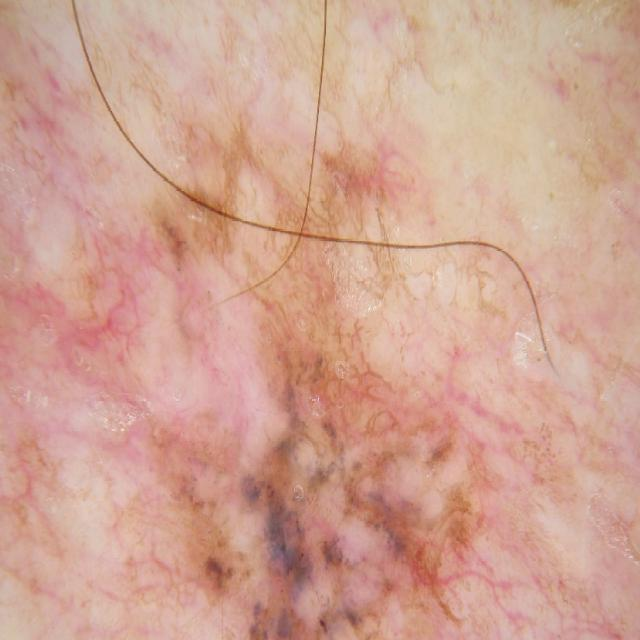Melanoma: (135, 178, 495, 640)
